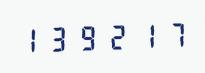nine: (74, 21, 101, 53)
one: (17, 22, 44, 55), (130, 19, 157, 51)
seven: (158, 18, 185, 50)
three: (45, 21, 72, 54)
two: (102, 20, 129, 52)
